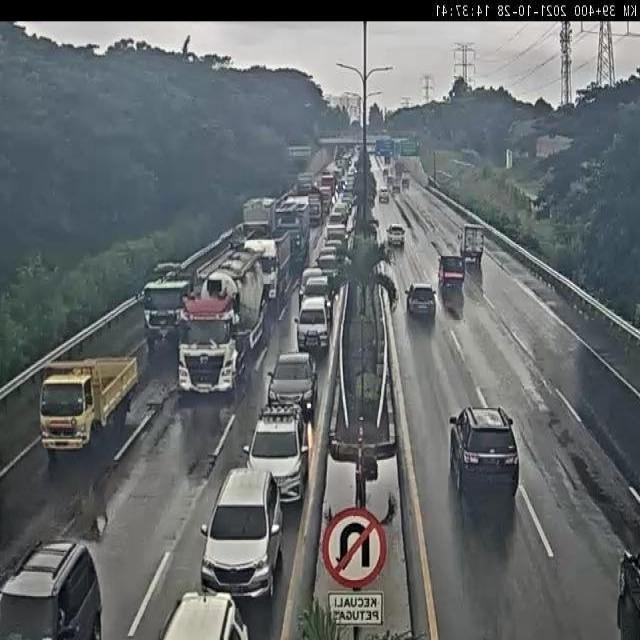Car: (199, 467, 284, 600), (450, 404, 520, 508), (242, 403, 310, 505), (300, 274, 331, 316), (405, 282, 437, 320), (315, 248, 341, 280), (322, 239, 344, 264), (331, 202, 350, 228), (391, 176, 401, 193), (378, 188, 389, 203), (402, 175, 410, 189), (382, 166, 389, 179)
Truck: (173, 246, 268, 394), (39, 354, 138, 456), (142, 265, 192, 351), (437, 254, 466, 290), (460, 223, 484, 266)
Van: (296, 295, 331, 355), (386, 223, 406, 247)
